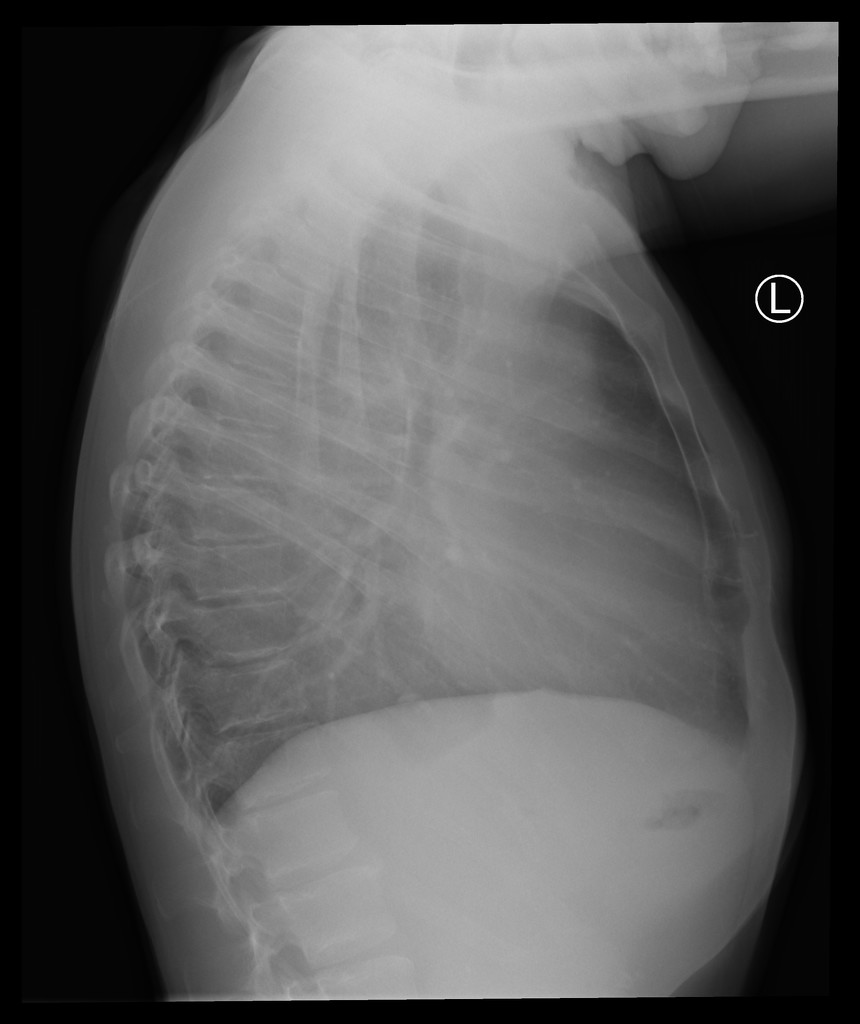cancer: (186, 214, 666, 710)
